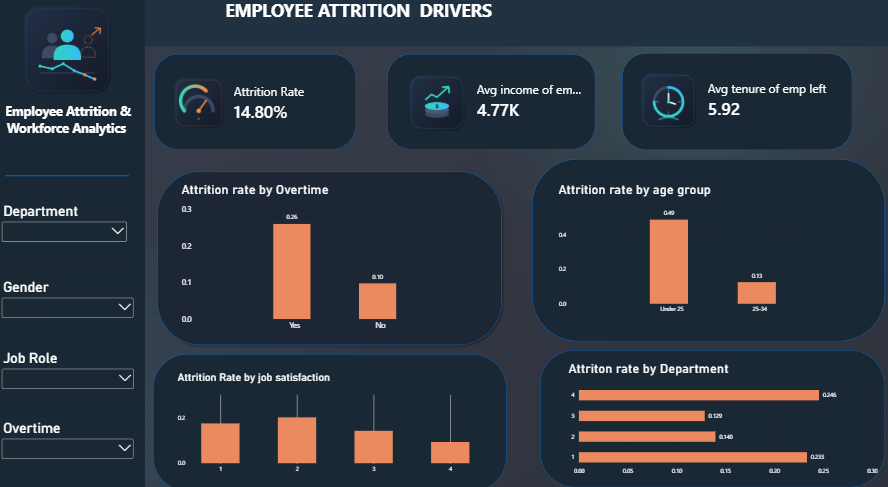

The dashboard page shown, as its layout file describes it:
{"tool":"powerbi","page":{"name":"Page 3","canvas":[1920,1080],"ordinal":2},"visuals":[{"type":"shape","box":[0,0,327.6,1080.9],"z":0},{"type":"textbox","box":[0,221.7,327.6,98.3],"z":1000},{"type":"image","box":[56,18,214,186],"z":2000},{"type":"slicer","fields":{"Values":["cleaned.department"]},"box":[17.5,435,277.5,120],"z":3000},{"type":"shape","box":[30.2,312.4,264.6,131],"z":4000},{"type":"shape","box":[327.6,0,1592.4,103.3],"z":5000},{"type":"shape","box":[346.7,120,430,203.3],"z":6000},{"type":"shape","box":[843.3,120,443.3,203.3],"z":7000},{"type":"shape","box":[1343.3,116.7,490,206.7],"z":9000},{"type":"cardVisual","fields":{"Data":["cleaned.Attrition Rate"]},"box":[500,163.3,214.2,120.9],"z":14000},{"type":"image","box":[356.7,170,168.8,105.8],"z":15000},{"type":"cardVisual","fields":{"Data":["cleaned.Avg income of employees left"]},"box":[1016.7,156.7,270,123.3],"z":16000},{"type":"image","box":[880,163.3,136.1,118.4],"z":17000},{"type":"textbox","box":[362.5,0,830,102.5],"z":18000},{"type":"shape","box":[345.6,360,750.9,388],"z":19000},{"type":"shape","box":[345,757.5,752.5,292.5],"z":20000},{"type":"shape","box":[1169.1,748.3,733.2,292.3],"z":21000},{"type":"shape","box":[1151.5,342.7,750.9,388],"z":22000},{"type":"clusteredColumnChart","title":"Attrition rate by Overtime","fields":{"Category":["cleaned.overtime"],"Y":["cleaned.Attrition Rate"]},"box":[390,377.5,665,352.5],"z":23000},{"type":"clusteredColumnChart","title":"Attrition rate by age group","fields":{"Category":["cleaned.Age Group"],"Y":["cleaned.Attrition Rate"]},"box":[1192.5,377.5,675,315],"z":24000},{"type":"barChart","title":"Attriton rate  by Department","fields":{"Category":["cleaned.worklifebalance"],"Y":["cleaned.Attrition Rate"]},"box":[1212.5,757.5,690,277.5],"z":25000},{"type":"slicer","fields":{"Values":["cleaned.gender"]},"box":[17.5,595,292.3,136.1],"z":26000},{"type":"slicer","fields":{"Values":["cleaned.jobrole"]},"box":[17.5,747.5,292.5,120],"z":27000},{"type":"slicer","fields":{"Values":["cleaned.overtime"]},"box":[17.5,895,292.3,136.1],"z":28000},{"type":"clusteredColumnChart","title":"Attrition Rate by job satisfaction","fields":{"Category":["cleaned.jobsatisfaction"],"Y":["cleaned.Attrition Rate"]},"box":[380,780,677.5,250],"z":29000},{"type":"cardVisual","fields":{"Data":["cleaned.Avg tenure of employees who left"]},"box":[1507.5,157.5,292.5,122.5],"z":29001},{"type":"image","box":[1377.5,160,130,117.5],"z":29002}]}

Visuals, with their boxes in screenshot pixels (x1, y1, x2, y2), scaled from the page's 1920x1080 canvas onto the 888x487 screenshot:
shape: <box>0,0,152,486</box>
textbox: <box>0,100,152,144</box>
image: <box>26,8,125,92</box>
slicer - cleaned.department: <box>8,196,136,250</box>
shape: <box>14,141,136,200</box>
shape: <box>152,0,887,47</box>
shape: <box>160,54,359,146</box>
shape: <box>390,54,595,146</box>
shape: <box>621,53,848,146</box>
cardVisual - cleaned.Attrition Rate: <box>231,74,330,128</box>
image: <box>165,77,243,124</box>
cardVisual - cleaned.Avg income of employees left: <box>470,71,595,126</box>
image: <box>407,74,470,127</box>
textbox: <box>168,0,552,46</box>
shape: <box>160,162,507,337</box>
shape: <box>160,342,508,473</box>
shape: <box>541,337,880,469</box>
shape: <box>533,155,880,329</box>
"Attrition rate by Overtime" clusteredColumnChart: <box>180,170,488,329</box>
"Attrition rate by age group" clusteredColumnChart: <box>552,170,864,312</box>
"Attriton rate  by Department" barChart: <box>561,342,880,467</box>
slicer - cleaned.gender: <box>8,268,143,330</box>
slicer - cleaned.jobrole: <box>8,337,143,391</box>
slicer - cleaned.overtime: <box>8,404,143,465</box>
"Attrition Rate by job satisfaction" clusteredColumnChart: <box>176,352,489,464</box>
cardVisual - cleaned.Avg tenure of employees who left: <box>697,71,832,126</box>
image: <box>637,72,697,125</box>
